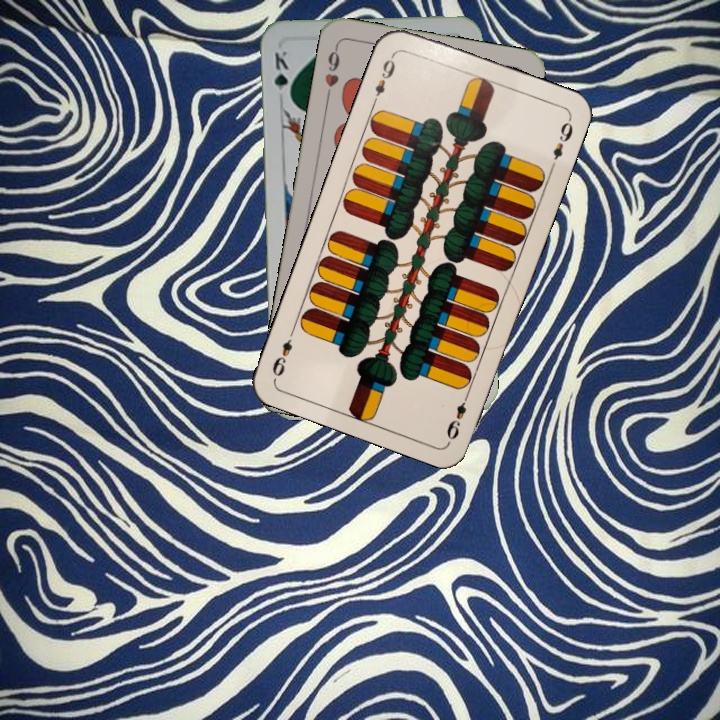E9: (442, 387, 473, 443), (368, 50, 398, 107)
GK: (270, 47, 293, 104)
H9: (320, 41, 343, 100)
